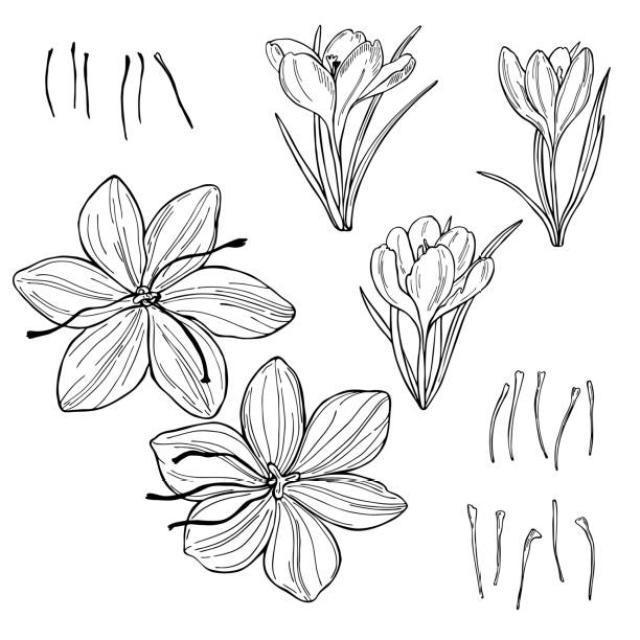Flower: (16, 167, 290, 413), (150, 364, 413, 603), (263, 19, 415, 232), (482, 36, 616, 238), (360, 208, 490, 404)
stigma: (131, 226, 246, 292), (141, 481, 278, 532), (142, 290, 208, 385), (24, 298, 138, 341), (158, 448, 260, 470)
